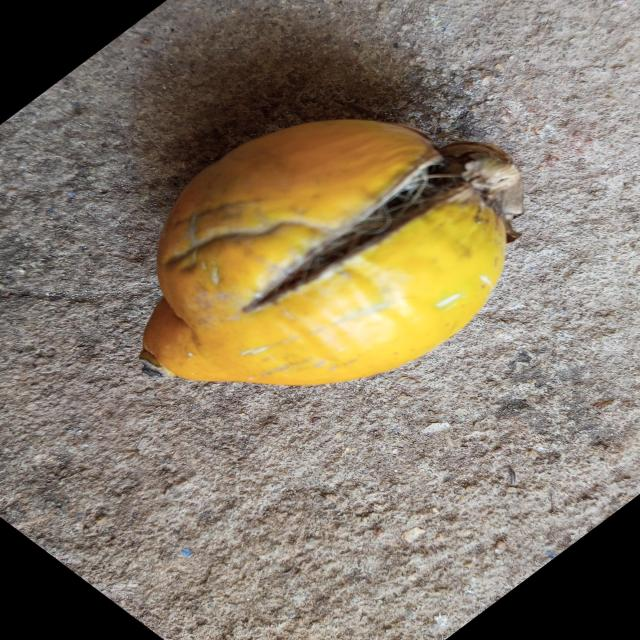damaged: (137, 118, 525, 391)
